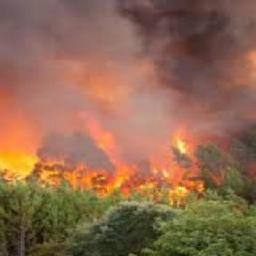Large fire: (0, 6, 255, 206)
Low smoke: (10, 5, 195, 177)
